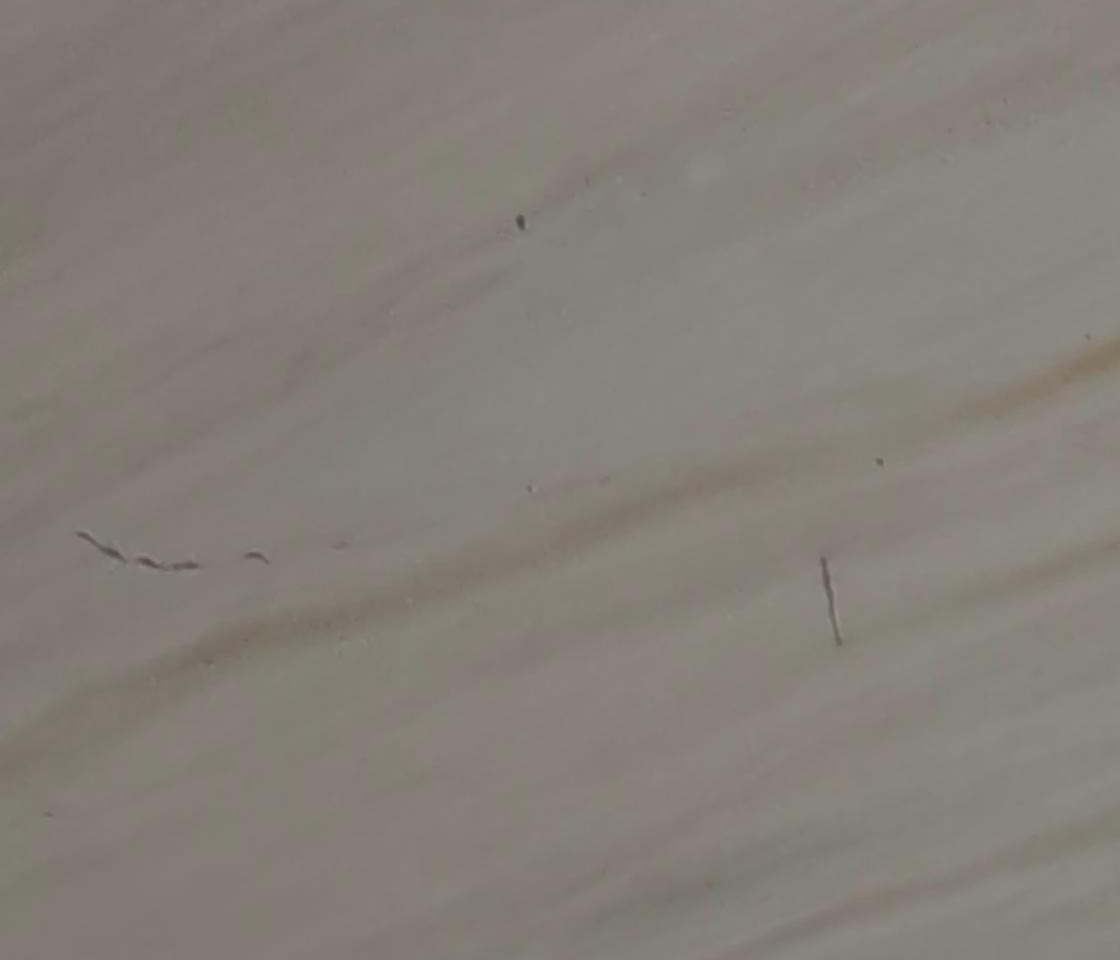scratch: (65, 526, 208, 581), (811, 552, 850, 650)
